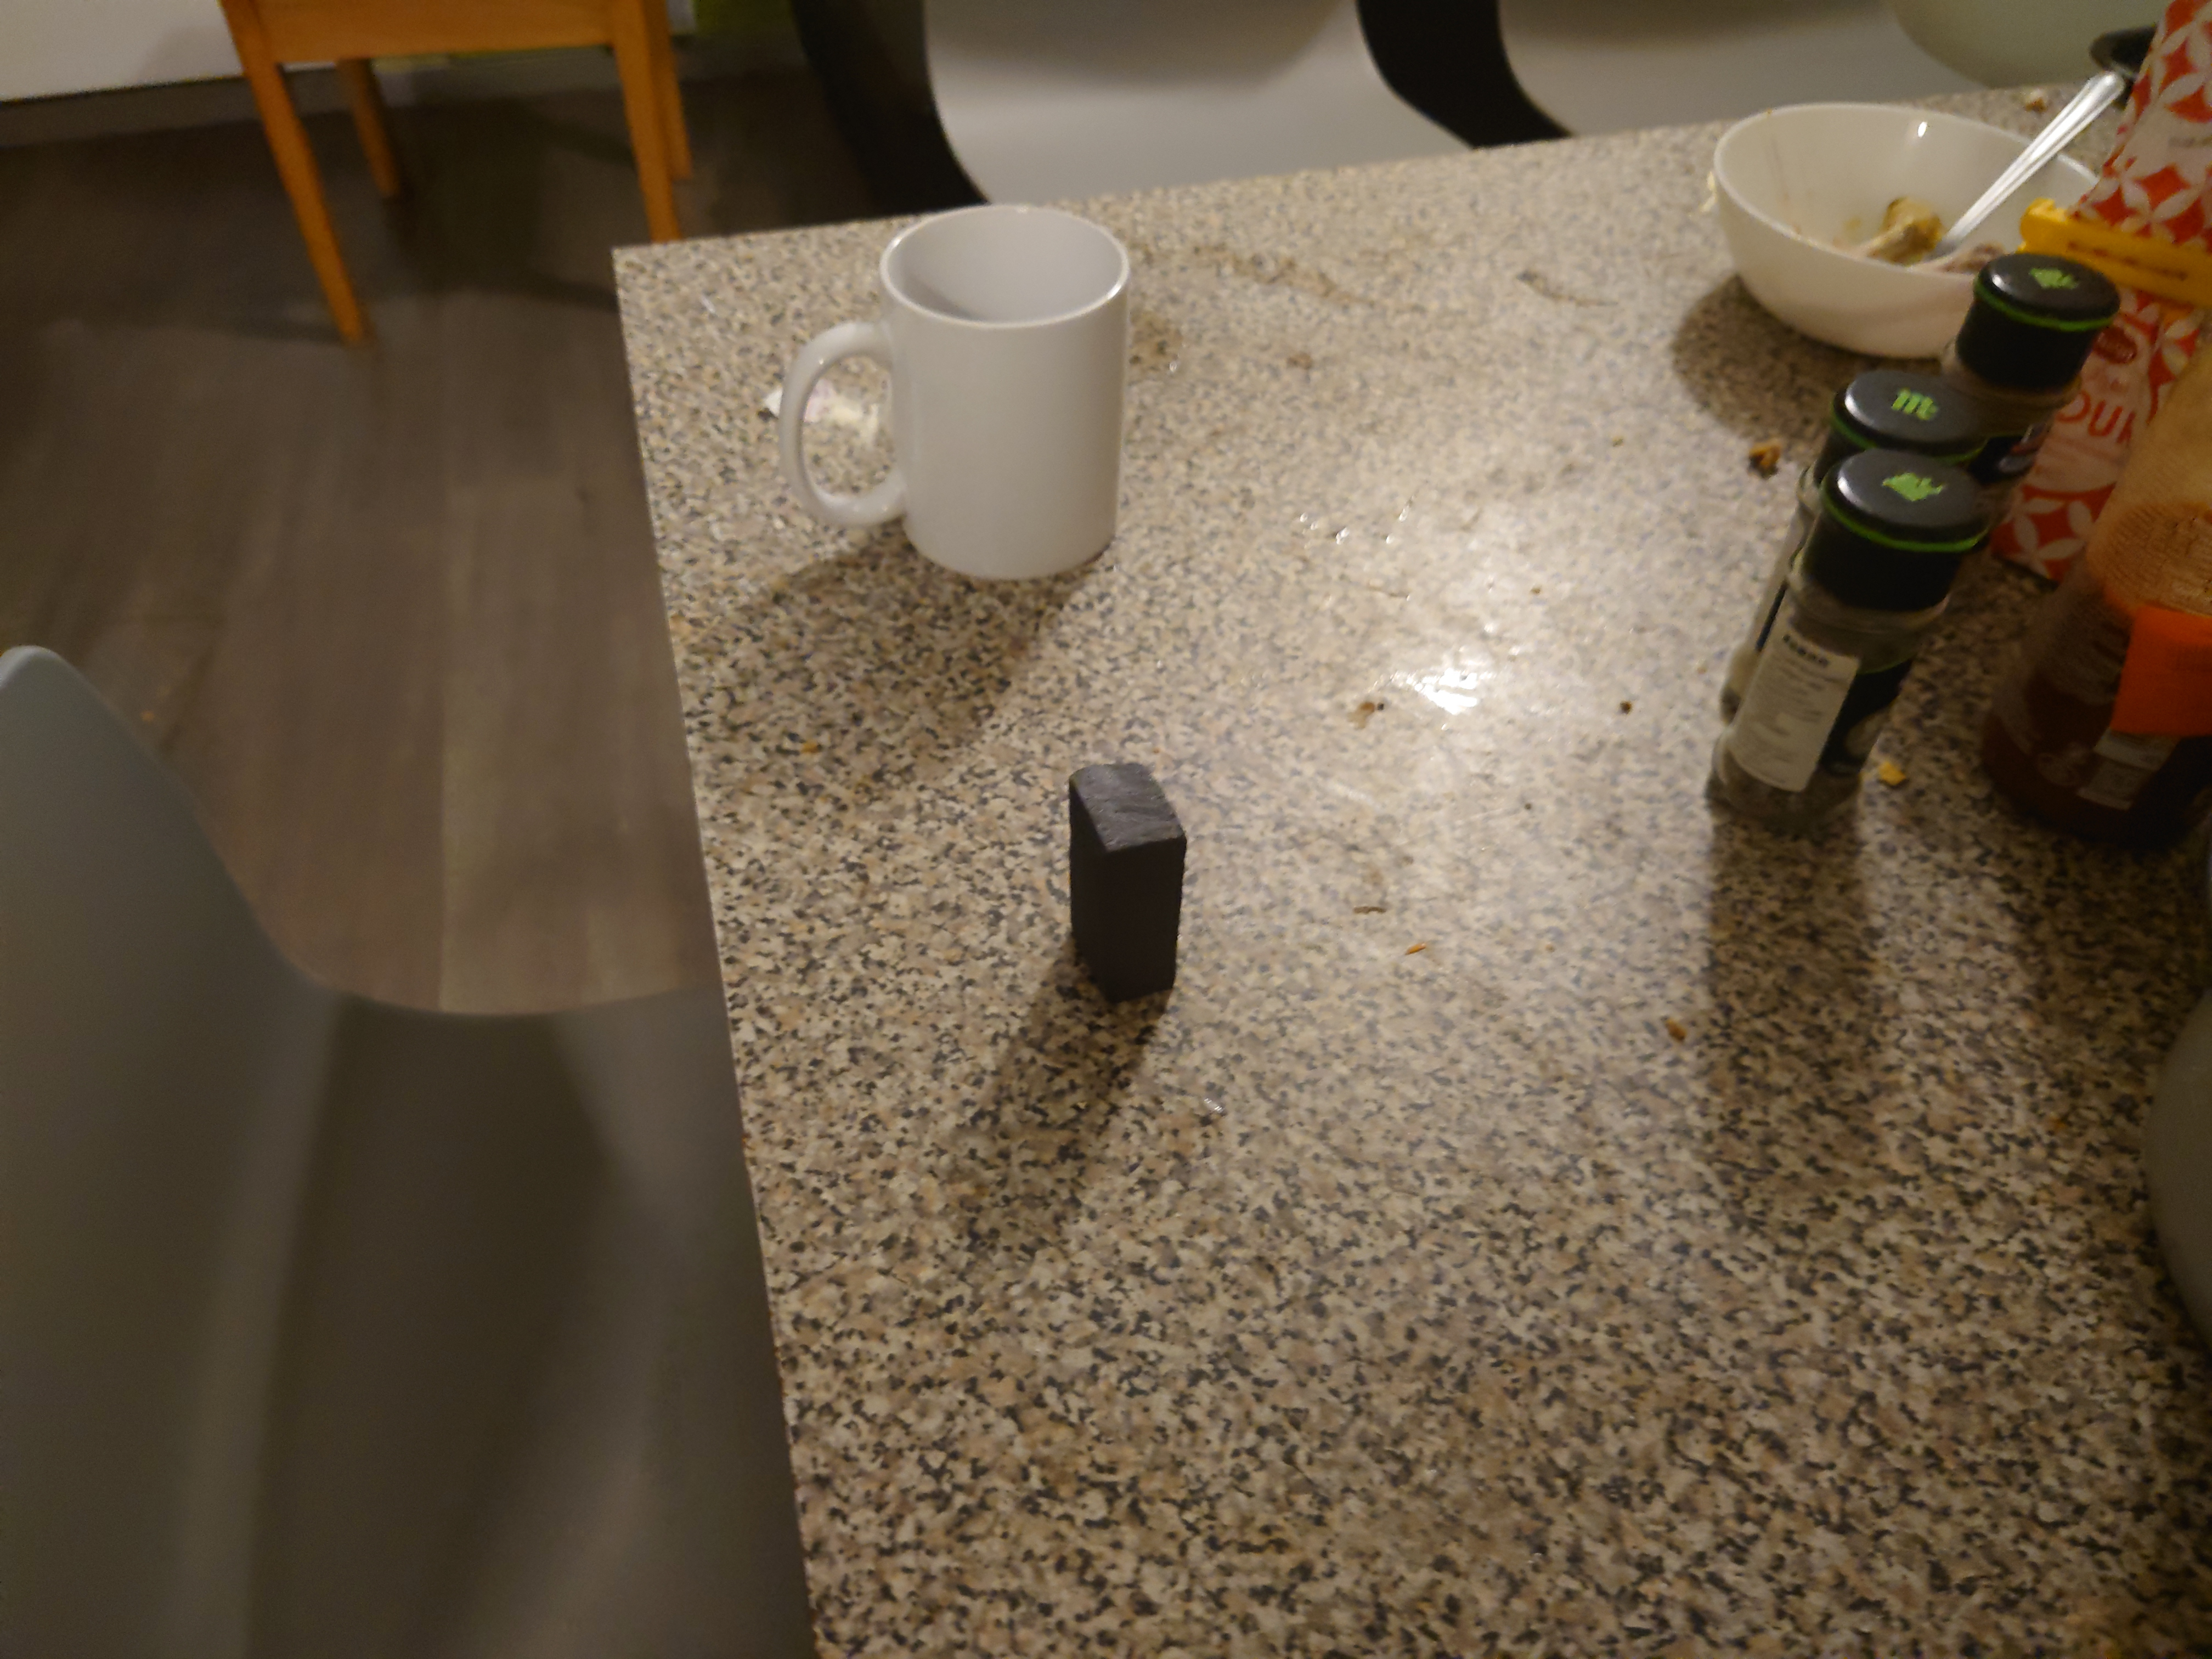cup: (779, 190, 1129, 580)
target: (1054, 758, 1183, 992)
